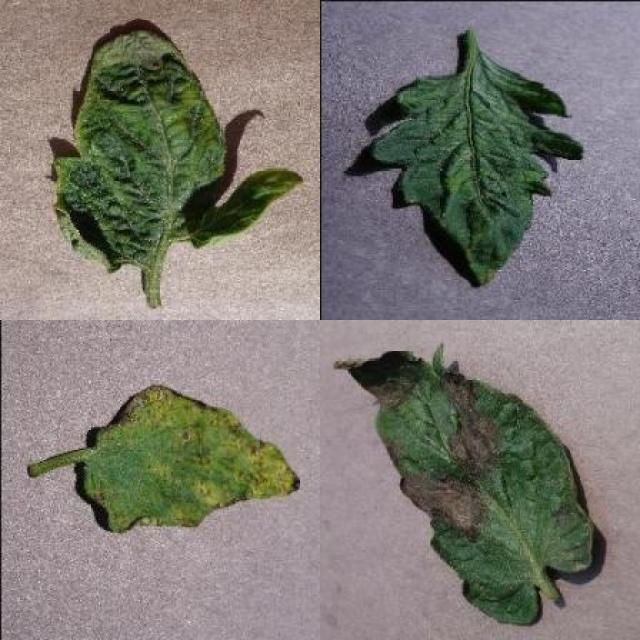Late Blight: (334, 344, 596, 627)
Mosaic Virus: (369, 51, 584, 292)
Septoria: (79, 388, 298, 535)
Yellow Leaf Curl Virus: (52, 23, 305, 276)
